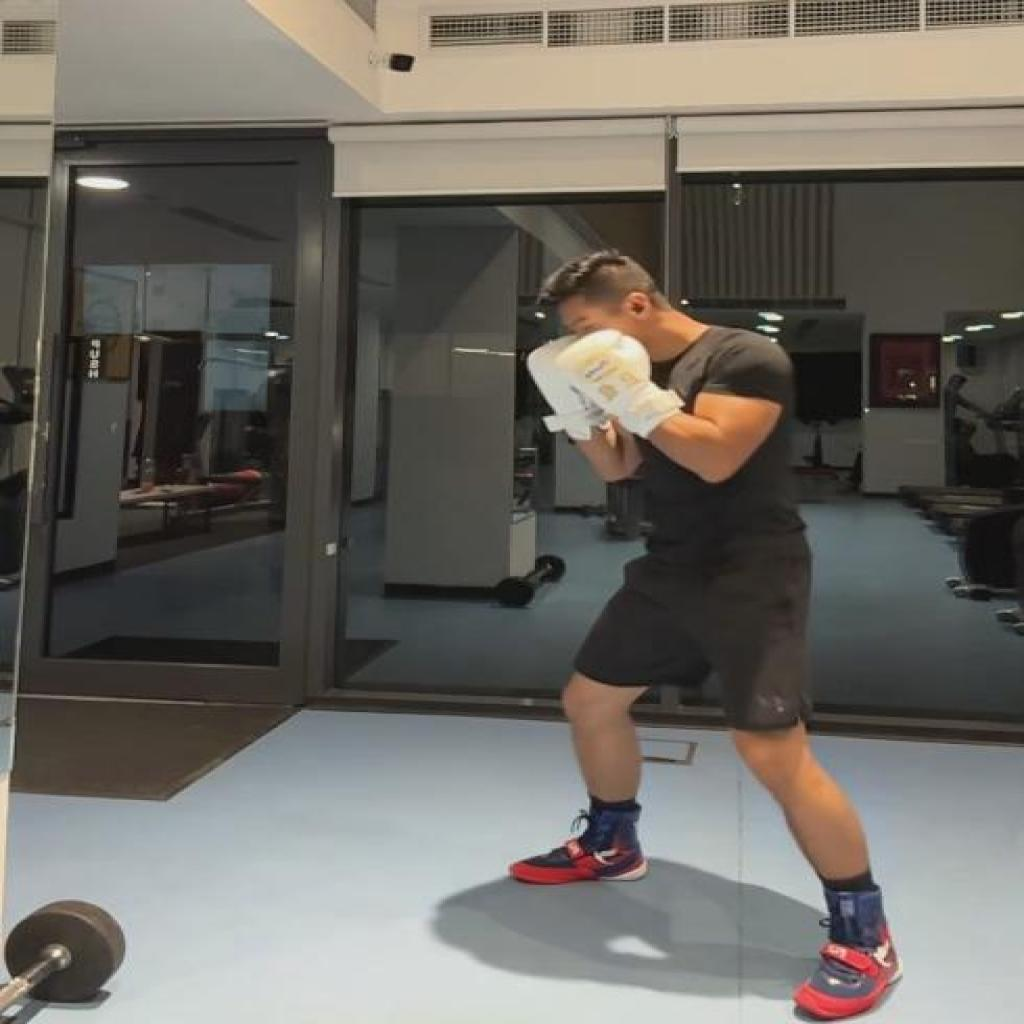no punch: (512, 246, 907, 1024)
